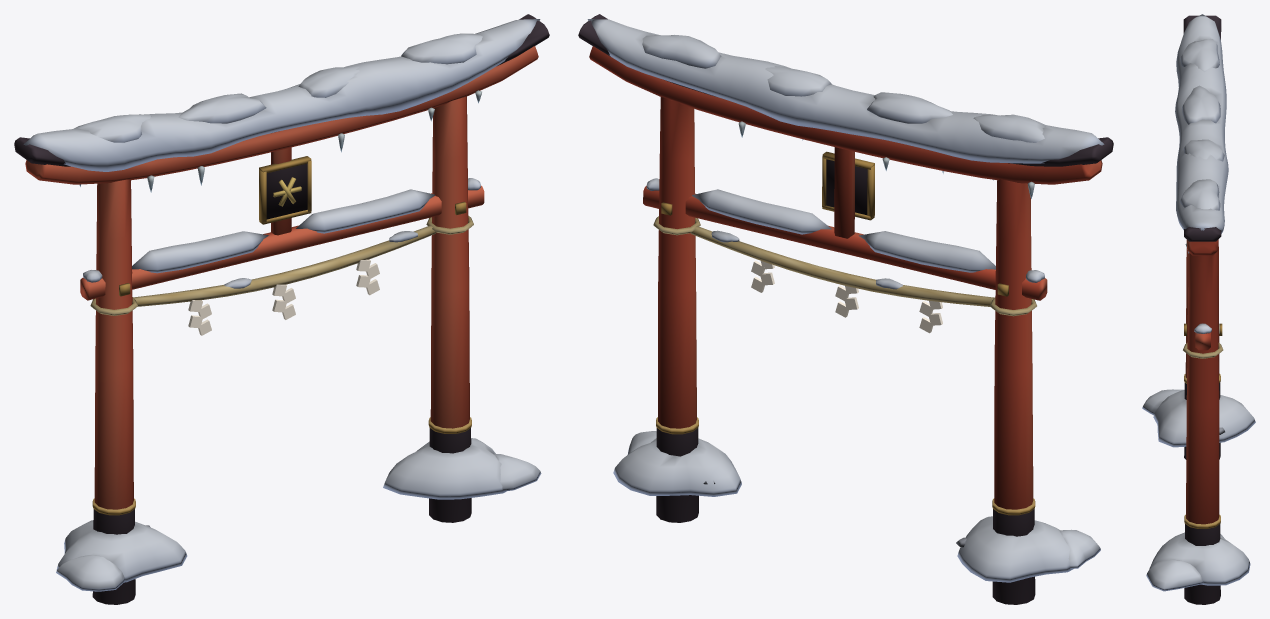
Rendered from rg-onsen-snowTorii-v1.glb.
3 renders of one model, left to right at view 1: azimuth 30°, elevation 25°; view 2: azimuth 150°, elevation 25°; view 3: azimuth 270°, elevation 25°, orthographic. The views are drawn at different scales.
Parts seen in each view (by area): view 1: body, cloth; view 2: body, cloth; view 3: body.
Boxes of the visible parts, x1,y1,x2,y2 form: body: (14, 14, 549, 604); cloth: (188, 259, 379, 335); body: (578, 14, 1113, 604); cloth: (751, 260, 942, 333); body: (1142, 14, 1255, 604).
Bounding box in the file's own units: 4.95 × 4.35 × 1.1.
